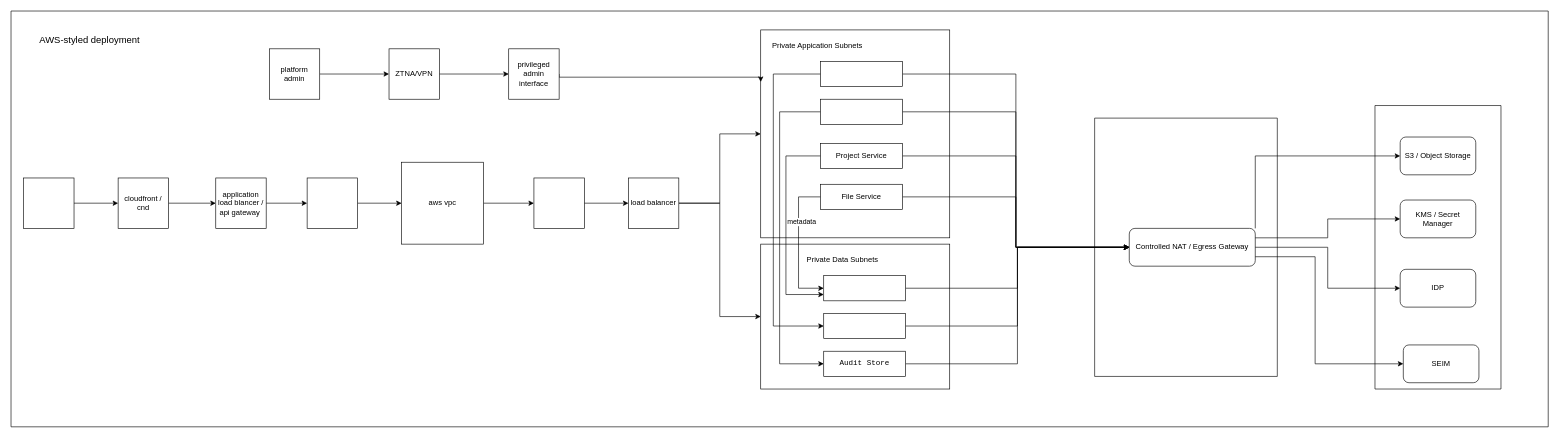
Image size: 1559x438. Some labels were removed from this diagram. The shapes that lost their labels are listed below. From the top down, each one's centre as x and y in pixels, then its label:
At [861,74]: "Auth' Identity Service".
At [861,111]: "Audit Service".
At [48,202]: "internet".
At [332,202]: "aws waf".
At [558,202]: "private / edge subnet".
At [1437,247]: "External Services".
At [864,288]: "RDS PostgreSQL".
At [864,326]: "Redis".
